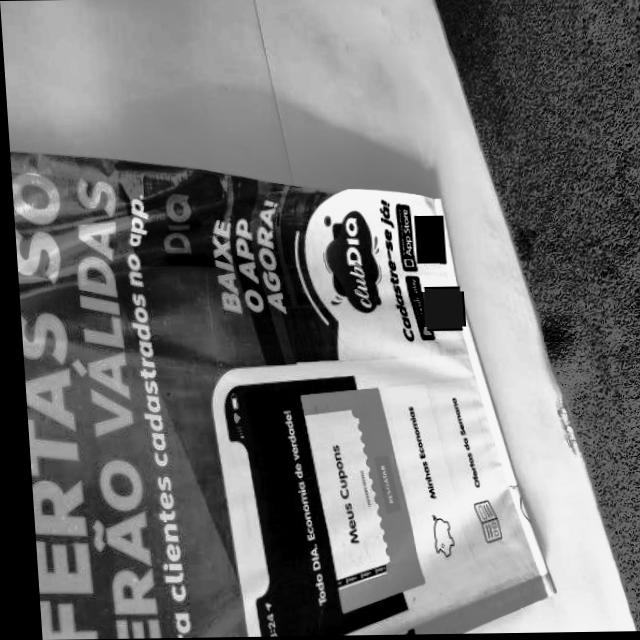qr_code: (418, 289, 460, 329), (412, 217, 442, 263)
